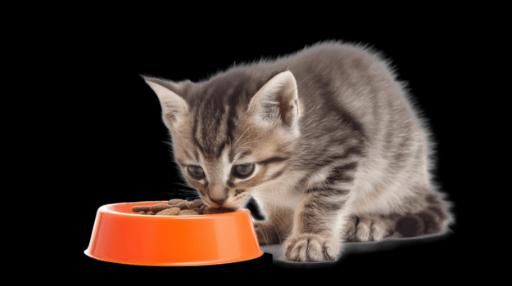cat_eating: (85, 43, 451, 265)
